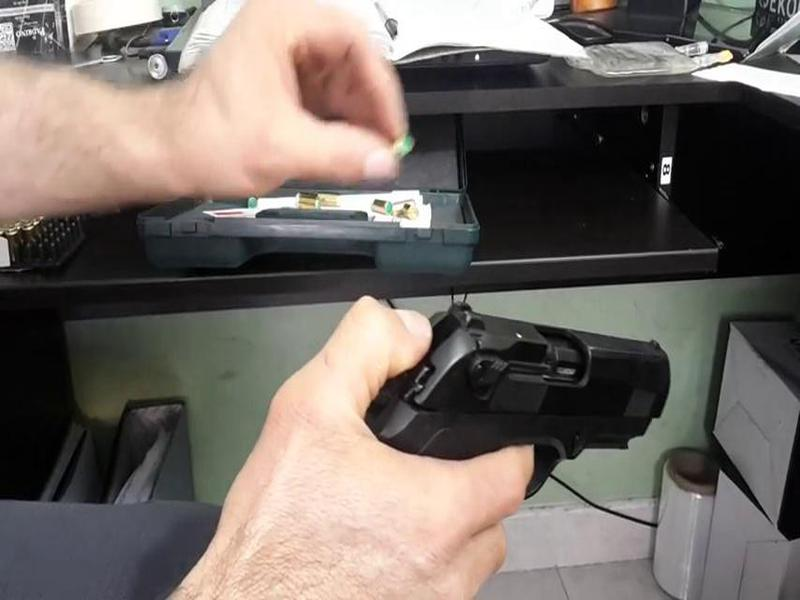Pistola: (380, 230, 678, 538)
